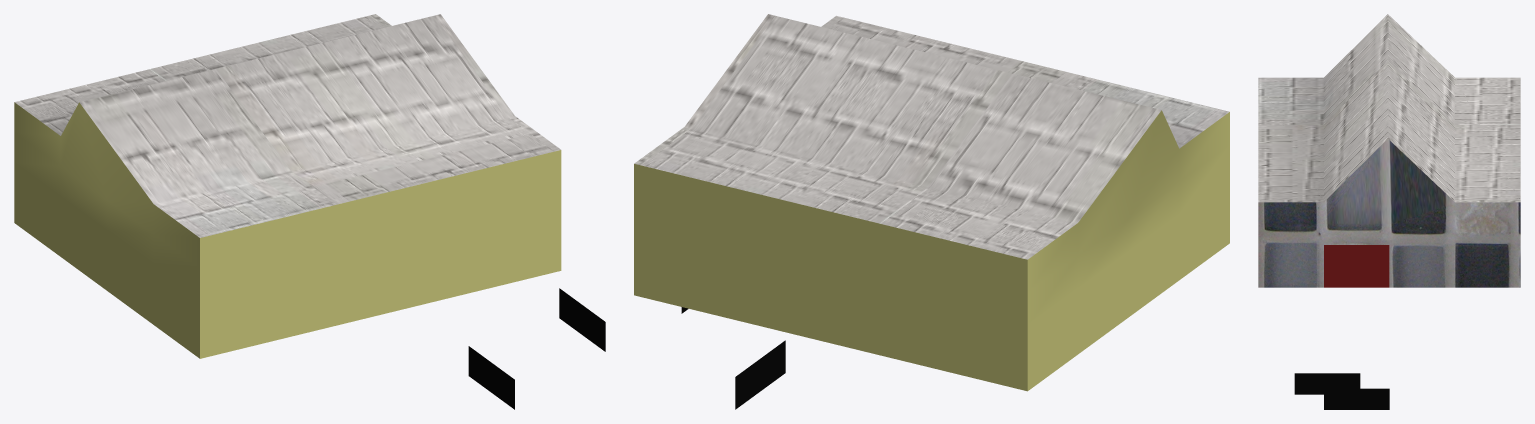
Rendered from house2.obj.
3 renders of one model, left to right at view 1: azimuth 30°, elevation 25°; view 2: azimuth 150°, elevation 25°; view 3: azimuth 270°, elevation 25°, orthographic. The views are drawn at different scales.
Visible parts, largest first — view 1: polySurface5 polySurface3 polySurface1 pCube1, polySurface3 polySurface1 pCube1 polySurface6, pCube1 polySurface2; view 2: polySurface5 polySurface3 polySurface1 pCube1, pCube1 polySurface2; view 3: polySurface5 polySurface3 polySurface1 pCube1, polySurface1 pCube1 polySurface4, polySurface3 polySurface1 pCube1 polySurface6, pCube1 polySurface2.
Boxes of the visible parts, x1,y1,x2,y2 form: polySurface5 polySurface3 polySurface1 pCube1: (14,14,561,358); polySurface3 polySurface1 pCube1 polySurface6: (559,288,605,351); pCube1 polySurface2: (468,346,514,409); polySurface5 polySurface3 polySurface1 pCube1: (634,14,1229,391); pCube1 polySurface2: (735,340,785,409); polySurface5 polySurface3 polySurface1 pCube1: (1258,14,1520,287); polySurface1 pCube1 polySurface4: (1324,245,1389,287); polySurface3 polySurface1 pCube1 polySurface6: (1294,373,1360,394); pCube1 polySurface2: (1324,388,1389,409).
Bounding box in the file's own units: 17.86 × 13.71 × 12.48.
Materials: 5 (2 with a texture image).
